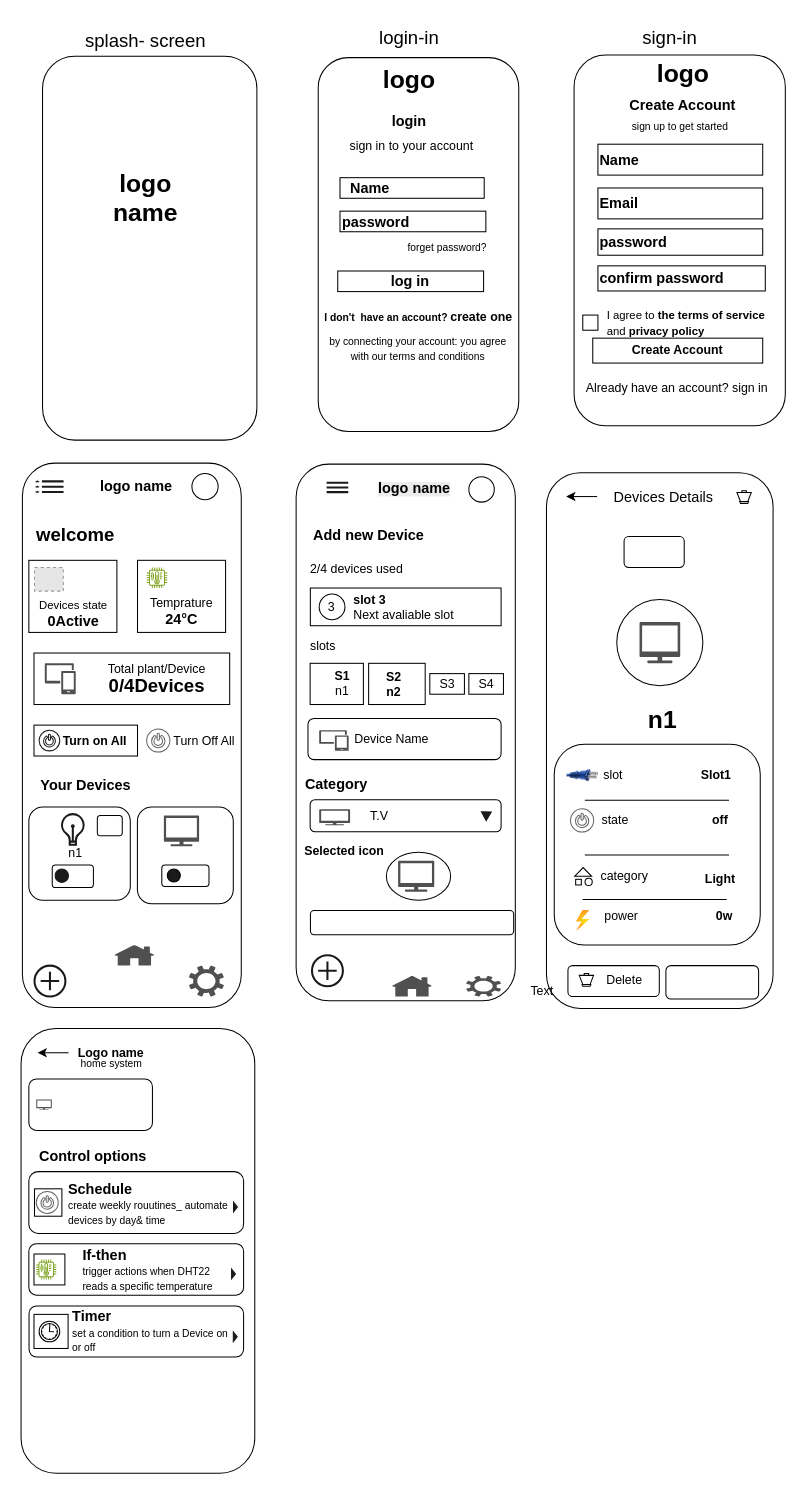
The diagram is 804 pixels wide and 1491 high, and some of its shapes have lost their labels. Grey dashed boxes stand in for pictures. The centre of each missing label's shape, as x and y in pixels:
"Add Devices to Slot 3" belongs at point (411, 922).
"CONTROL" belongs at point (712, 982).
"n1. slot2" belongs at point (90, 1104).
"S1" belongs at point (109, 825).
"slot2" belongs at point (653, 551).
